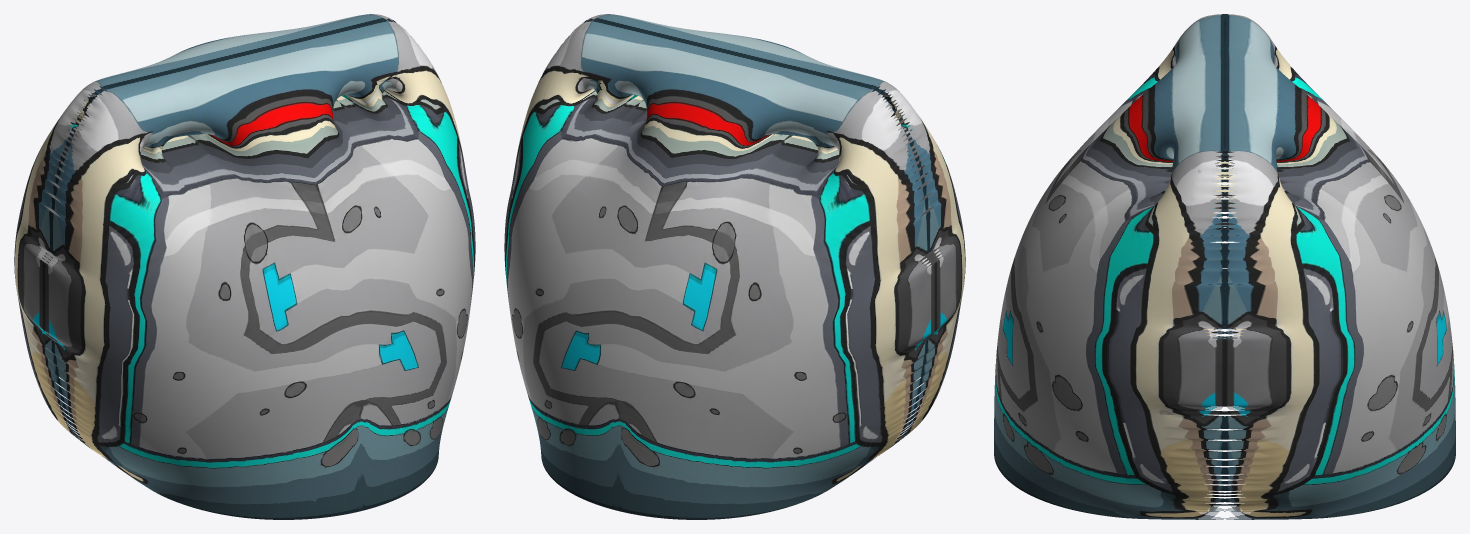
Rendered from service_hatch.glb.
3 renders of one model, left to right at view 1: azimuth 30°, elevation 25°; view 2: azimuth 150°, elevation 25°; view 3: azimuth 270°, elevation 25°, orthographic.
Visible parts, largest first — view 1: service_hatch; view 2: service_hatch; view 3: service_hatch.
Part boxes in pixels (box(x1,y1,x2,y2)): service_hatch: box(14, 14, 475, 519); service_hatch: box(504, 14, 965, 519); service_hatch: box(994, 14, 1455, 519).
Size of the model in its own units: 0.989 by 0.8762 by 0.9904.
Materials: 1 (1 with a texture image).
